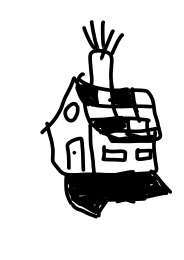door: (62, 135, 89, 172)
open_window: (130, 138, 155, 168), (98, 144, 132, 164)
roof: (48, 79, 172, 145)
shadow: (56, 170, 176, 223)
smoking_chimney: (79, 15, 127, 87)
wall: (85, 125, 164, 176)
